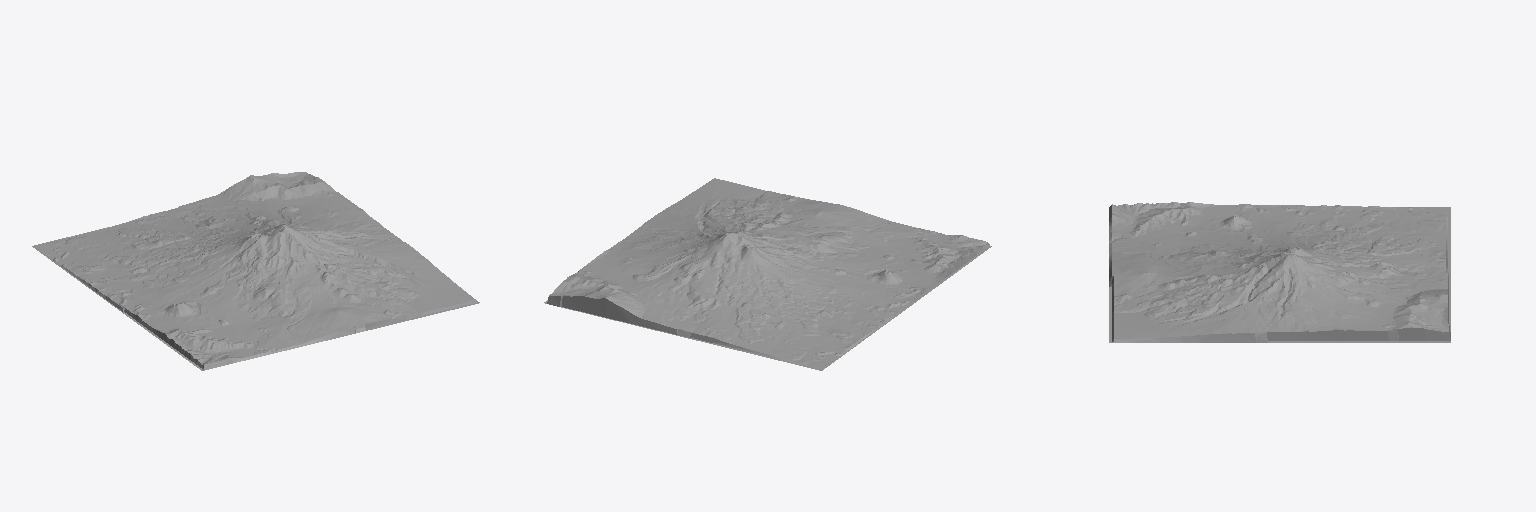
Rendered from terrain.obj.
The picture shows the model from 3 angles: view 1: azimuth 30°, elevation 25°; view 2: azimuth 150°, elevation 25°; view 3: azimuth 270°, elevation 25°; orthographic projection.
Parts seen in each view (by area): view 1: vue_ready_shasta; view 2: vue_ready_shasta; view 3: vue_ready_shasta.
Part boxes in pixels (x1,y1,x2,y2): vue_ready_shasta: (32,172,479,370); vue_ready_shasta: (544,178,991,370); vue_ready_shasta: (1109,202,1450,342).
Bounding box in the file's own units: 506 × 64.67 × 537.